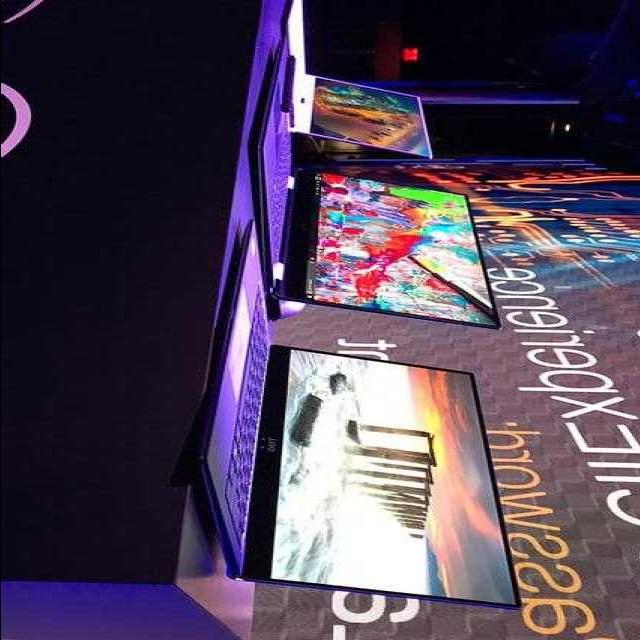laptop: (184, 283, 526, 607), (219, 0, 497, 333), (284, 2, 428, 162)
